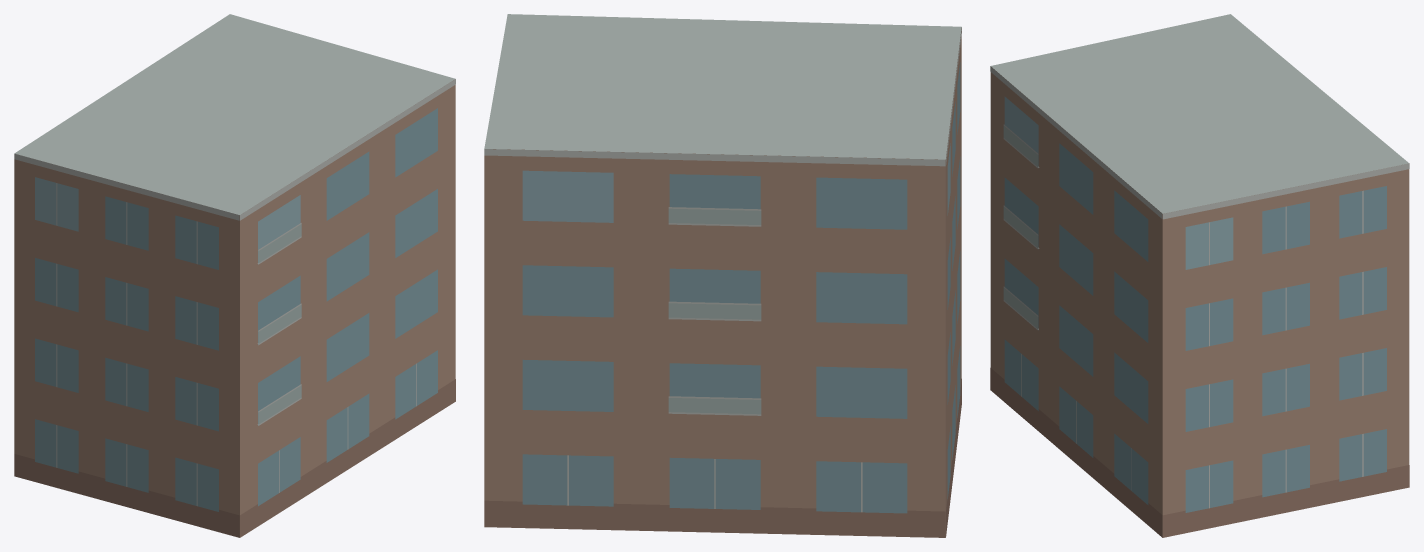
Rendered from survey-upis-32801570.glb.
The picture shows the model from 3 angles, left to right: view 1: azimuth 30°, elevation 25°; view 2: azimuth 150°, elevation 25°; view 3: azimuth 270°, elevation 25°; orthographic projection. The views are drawn at different scales.
Parts seen in each view (by area): view 1: survey-upis-32801570.tmp; view 2: survey-upis-32801570.tmp; view 3: survey-upis-32801570.tmp.
Boxes of the visible parts, x1,y1,x2,y2 form: survey-upis-32801570.tmp: [14, 14, 455, 537]; survey-upis-32801570.tmp: [484, 14, 961, 537]; survey-upis-32801570.tmp: [990, 14, 1409, 537].
Bounding box in the file's own units: 18.32 × 13.85 × 16.24.
